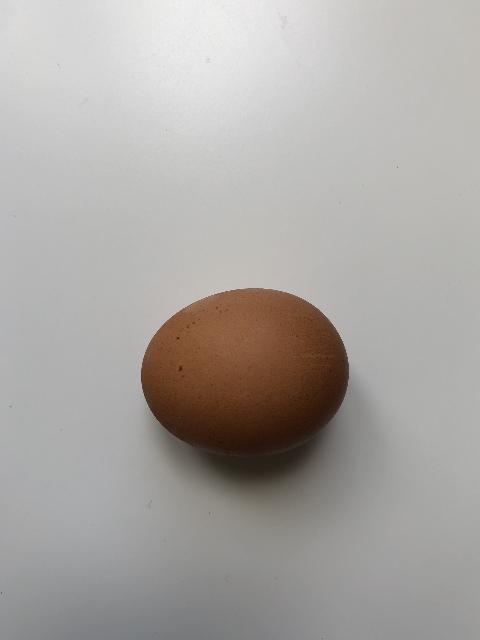Sano: (140, 286, 350, 459)
